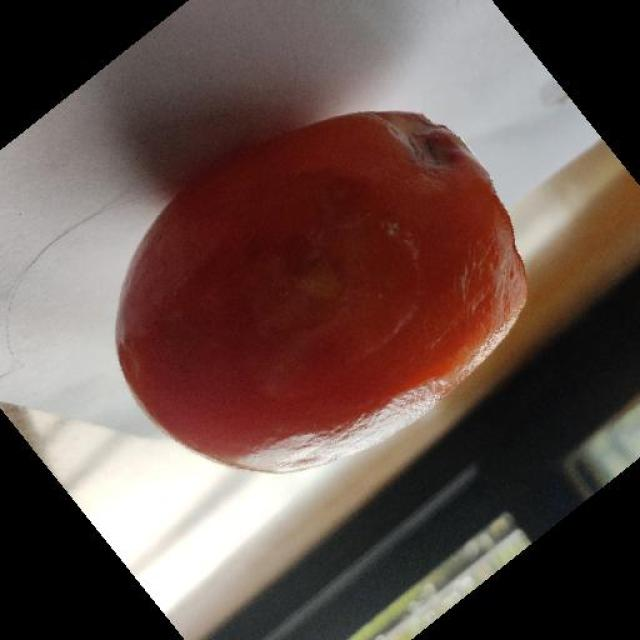Stale_tomato: (166, 107, 539, 471)
